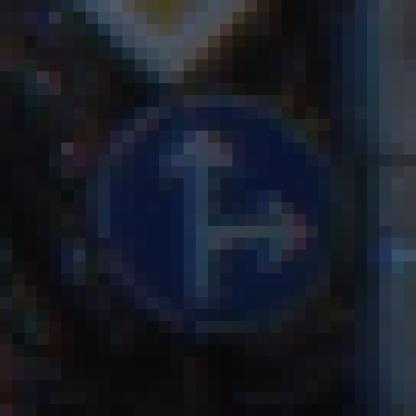Straight or Right: (74, 72, 356, 358)
